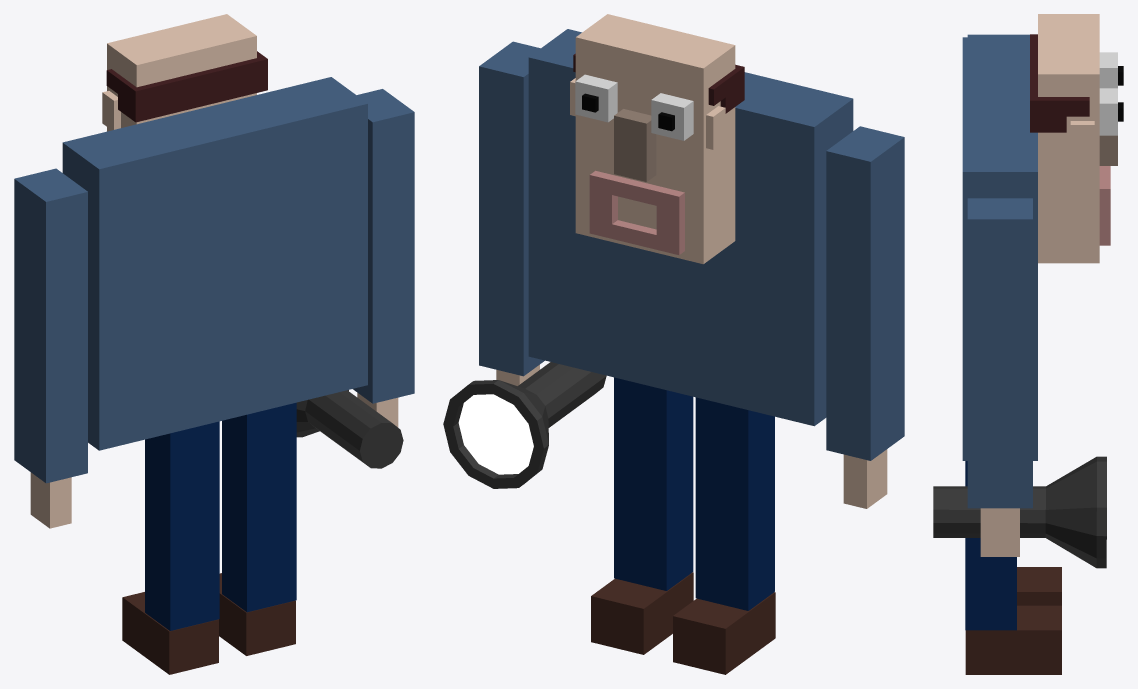
File: Man.glb
3 views of the same model, side by side, from view 1: azimuth 30°, elevation 25°; view 2: azimuth 150°, elevation 25°; view 3: azimuth 270°, elevation 25° (orthographic). The views are drawn at different scales.
Parts seen in each view (by area): view 1: Cube, Cube.002, Cube.005, Cube.004, Cube.003, Cube.001, Cube.013, Cylinder, Cube.006, Cube.007, Cube.008, Cube.014; view 2: Cube, Cube.002, Cube.001, Cube.003, Cube.004, Cube.005, Cylinder, Cube.006, Cube.007, Cube.016, Cube.010, Cube.008 (+4 smaller); view 3: Cube.003, Cube, Cube.001, Cylinder, Cube.007, Cube.005, Cube.013, Cube.009, Cube.006, Cube.016, Cube.012, Cube.015 (+2 smaller).
Part boxes in pixels (x1,y1,x2,y2): Cube: [62, 77, 367, 450]; Cube.002: [14, 168, 87, 483]; Cube.005: [222, 402, 296, 612]; Cube.004: [145, 421, 219, 630]; Cube.003: [353, 89, 414, 403]; Cube.001: [107, 14, 256, 131]; Cube.013: [106, 51, 267, 122]; Cylinder: [296, 390, 403, 468]; Cube.006: [122, 592, 218, 674]; Cube.007: [219, 573, 295, 655]; Cube.008: [30, 472, 71, 528]; Cube.014: [102, 91, 120, 130]; Cube: [528, 29, 853, 426]; Cube.002: [826, 126, 904, 460]; Cube.001: [575, 14, 735, 264]; Cube.003: [479, 41, 544, 376]; Cube.004: [695, 397, 774, 610]; Cube.005: [614, 377, 693, 590]; Cylinder: [443, 362, 606, 488]; Cube.006: [673, 592, 775, 674]; Cube.007: [591, 572, 693, 654]; Cube.016: [589, 170, 684, 254]; Cube.010: [614, 109, 656, 181]; Cube.008: [843, 449, 887, 508]; Cube.003: [967, 198, 1032, 508]; Cube: [962, 37, 1037, 460]; Cube.001: [1038, 14, 1099, 263]; Cylinder: [933, 456, 1106, 568]; Cube.007: [965, 605, 1061, 674]; Cube.005: [965, 461, 1016, 630]; Cube.013: [1030, 34, 1089, 132]; Cube.009: [980, 508, 1019, 556]; Cube.006: [1017, 567, 1061, 605]; Cube.016: [1099, 166, 1110, 245]; Cube.012: [1099, 88, 1117, 135]; Cube.015: [1070, 121, 1094, 156].
Size of the model in its own units: 2.74 by 4.15 by 1.2.
